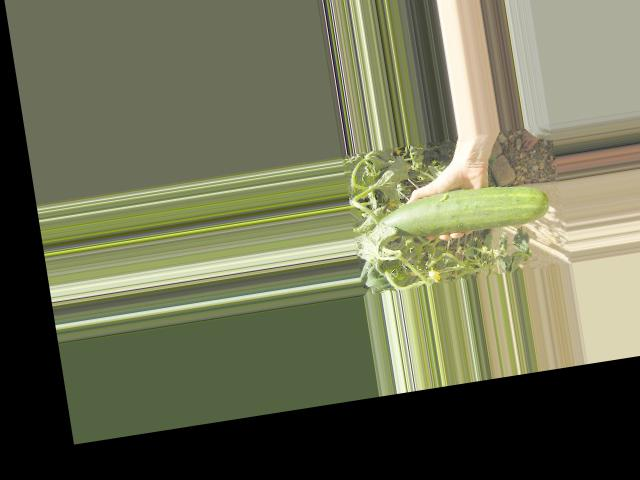cucumber: (373, 176, 552, 246)
